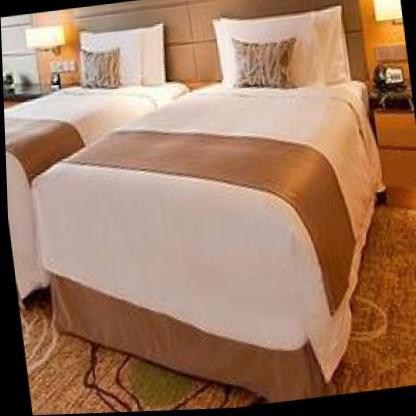Bed: (11, 0, 407, 416), (1, 19, 216, 306)
